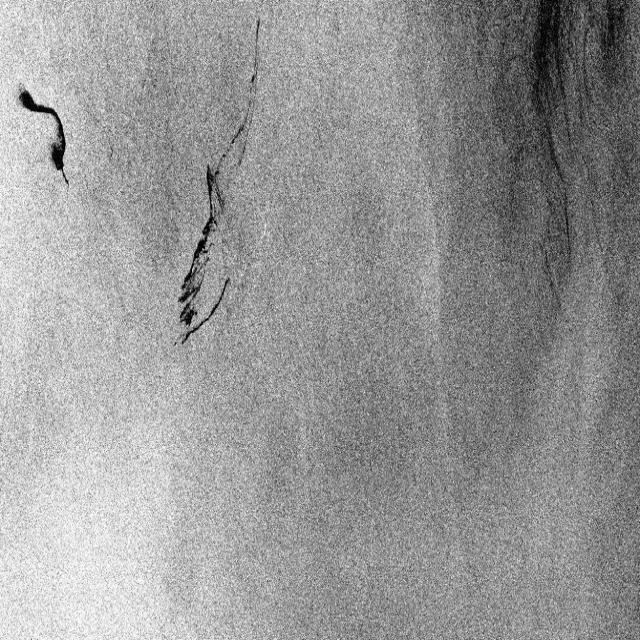look-alike: (494, 4, 638, 310)
oil-spill: (164, 169, 253, 351), (206, 12, 276, 171), (12, 78, 78, 197)
